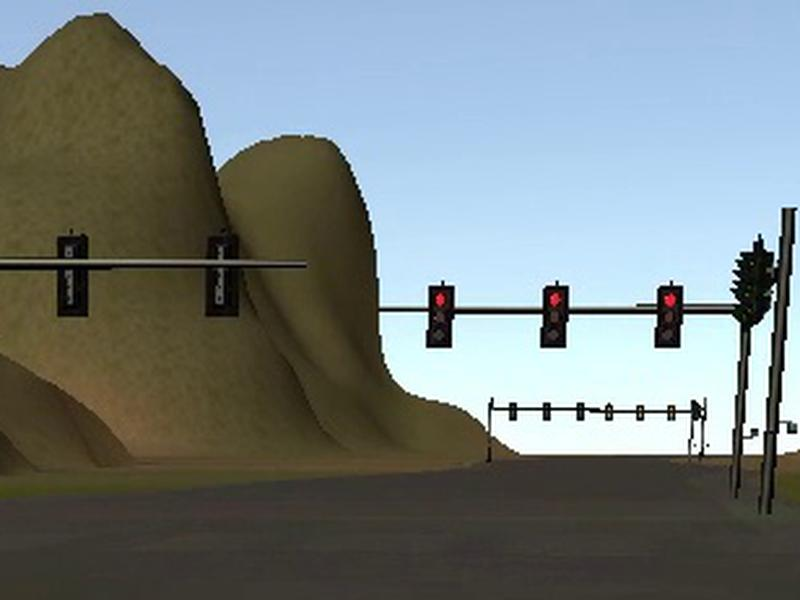Red: (654, 285, 683, 348), (427, 285, 455, 346), (540, 286, 567, 346)
